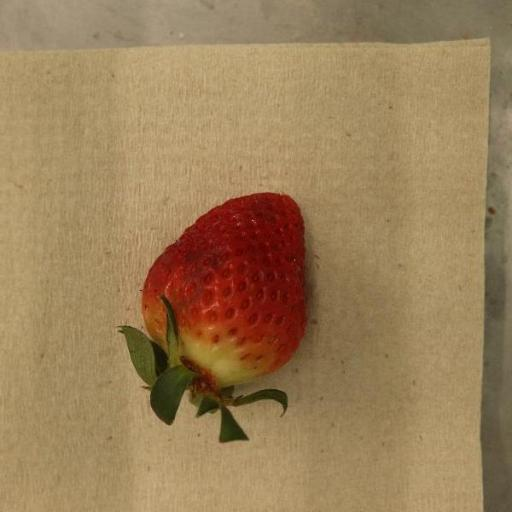Strawberry: (117, 193, 308, 445)
